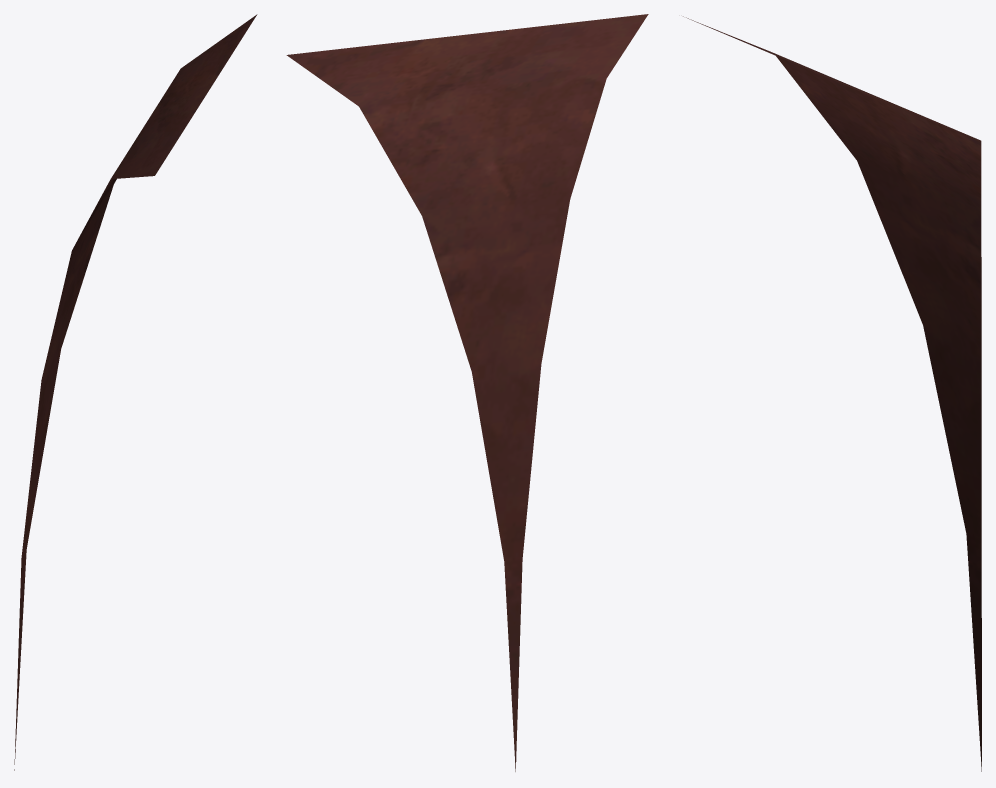
Rendered from lava_base_convex_01.fbx.
The picture shows the model from 3 angles, left to right: view 1: azimuth 30°, elevation 25°; view 2: azimuth 150°, elevation 25°; view 3: azimuth 270°, elevation 25°; orthographic projection. The views are drawn at different scales.
Visible parts, largest first — view 1: lava_tileset/lava_wall02; view 2: lava_tileset/lava_wall02; view 3: lava_tileset/lava_wall02.
Part boxes in pixels (x1,y1,x2,y2): lava_tileset/lava_wall02: (14, 14, 257, 770); lava_tileset/lava_wall02: (286, 14, 648, 771); lava_tileset/lava_wall02: (683, 16, 981, 771).
Size of the model in its own units: 2 by 5.5 by 2.
